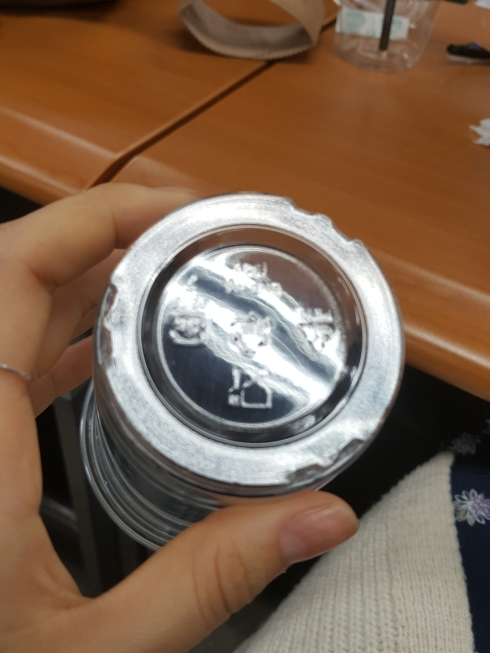recycle: (290, 302, 342, 359)
